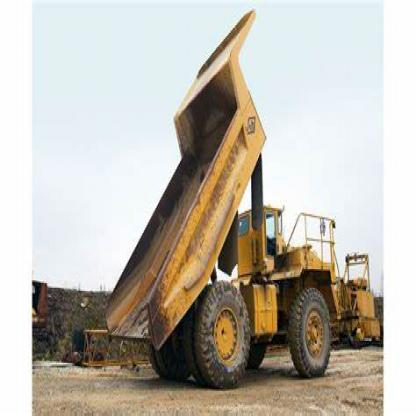dump_truck: (91, 11, 379, 382)
